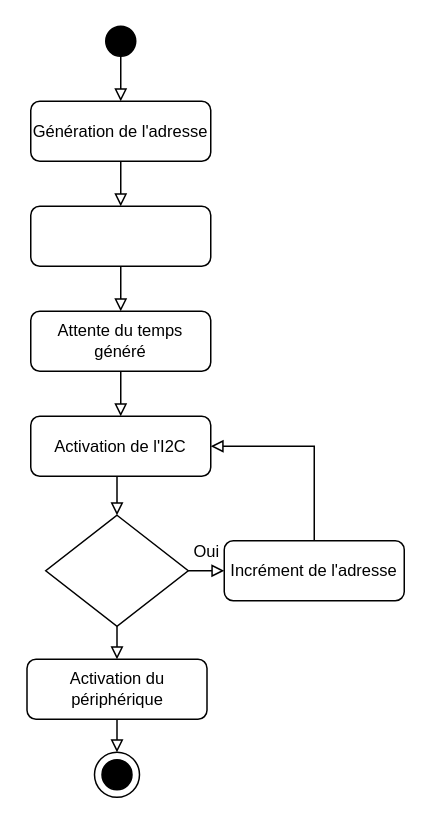
The diagram is 431 pixels wide and 824 high, and some of its shapes have lost their labels. The shapes that lost their labels are listed below. From the top down, each one's centre as x and y in pixels, then its label:
(x=120, y=235): Génération du temps d'attente
(x=116, y=570): Adresse déjà attribuée ?
